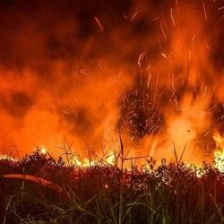fire: (1, 107, 224, 195)
